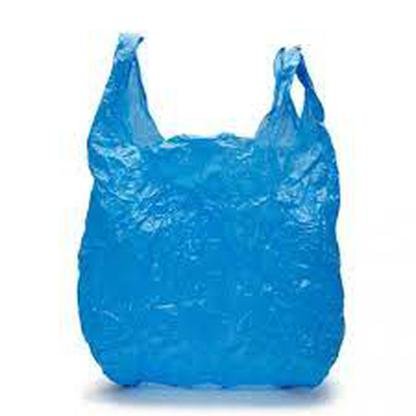plastic bag: (74, 31, 346, 390)
